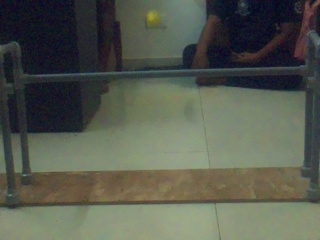ball: (146, 10, 160, 26)
